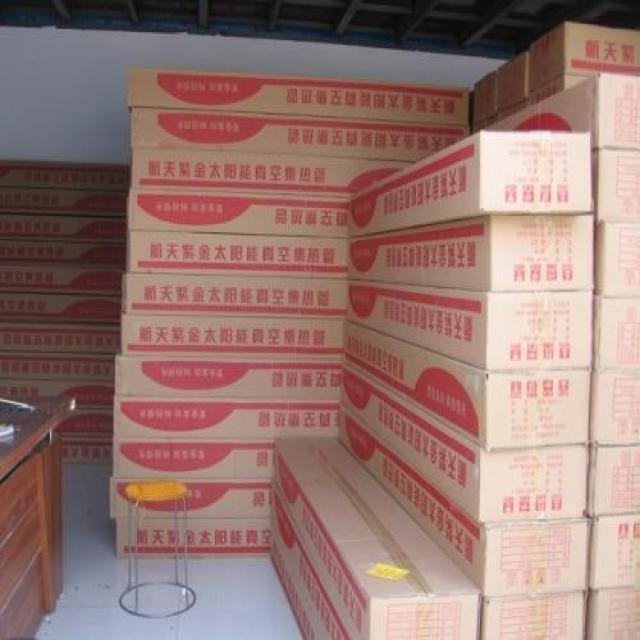box: (339, 403, 591, 598), (274, 437, 481, 640), (342, 361, 590, 526), (343, 319, 591, 448), (349, 129, 593, 239), (347, 282, 595, 371), (129, 64, 471, 124), (347, 216, 594, 290), (132, 108, 470, 161), (271, 480, 355, 640), (132, 150, 416, 197), (479, 74, 640, 153), (124, 271, 348, 321), (128, 189, 352, 239), (127, 231, 349, 281), (115, 355, 342, 403), (114, 395, 343, 442), (120, 314, 344, 361), (526, 23, 640, 106), (111, 476, 275, 519), (115, 516, 271, 558), (114, 437, 276, 477), (480, 590, 594, 637), (1, 260, 127, 295), (1, 161, 133, 193), (1, 187, 131, 219), (0, 213, 128, 245), (0, 322, 122, 355), (0, 292, 123, 324), (590, 369, 640, 447), (0, 351, 116, 384), (0, 234, 127, 264), (586, 447, 640, 516), (591, 295, 640, 371), (589, 514, 640, 587), (591, 148, 640, 222), (593, 219, 639, 297), (1, 379, 115, 408), (585, 587, 640, 640), (497, 52, 530, 119), (56, 408, 115, 437), (467, 69, 498, 124), (61, 438, 115, 464)
